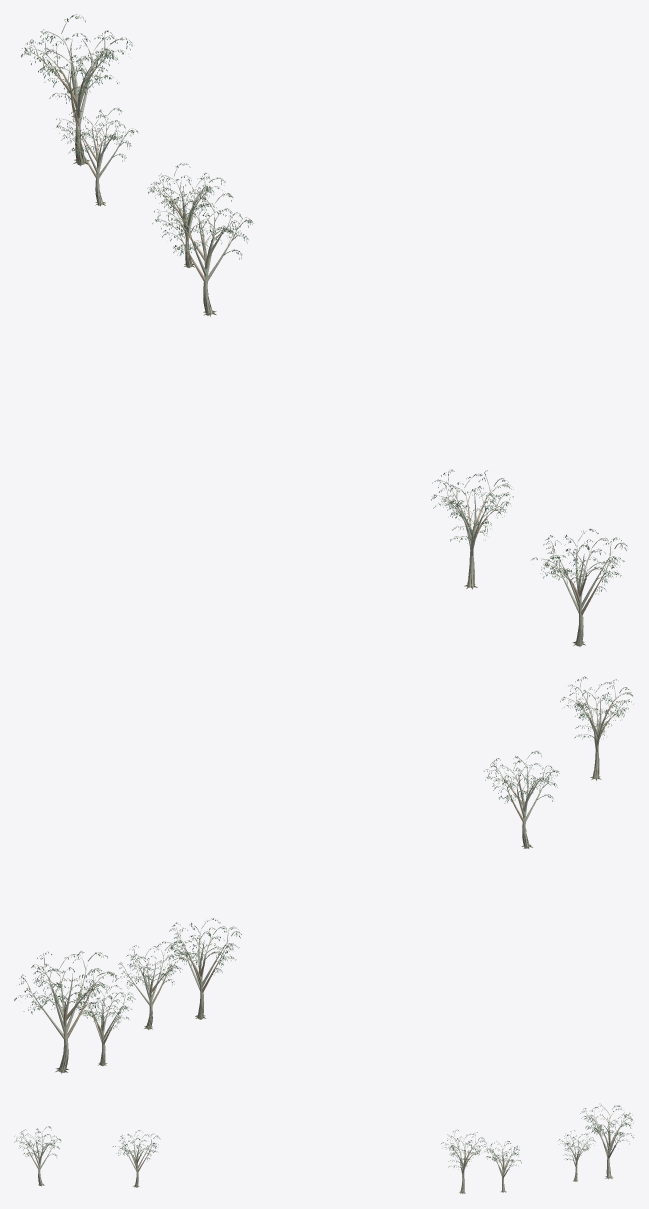
The model's file is ecology-eucalyptus-mid-10.glb.
3 renders of one model, top to bottom at view 1: azimuth 30°, elevation 25°; view 2: azimuth 150°, elevation 25°; view 3: azimuth 270°, elevation 25°, orthographic. The views are drawn at different scales.
Parts seen in each view (by area): view 1: eucalyptus-mid-98, eucalyptus-mid-101, eucalyptus-mid-97, eucalyptus-mid-96, eucalyptus-mid-99, eucalyptus-mid-100; view 2: eucalyptus-mid-98, eucalyptus-mid-101, eucalyptus-mid-96, eucalyptus-mid-97, eucalyptus-mid-100, eucalyptus-mid-99; view 3: eucalyptus-mid-98, eucalyptus-mid-97, eucalyptus-mid-101, eucalyptus-mid-96, eucalyptus-mid-100, eucalyptus-mid-99.
Boxes of the visible parts, x1,y1,x2,y2 form: eucalyptus-mid-98: (21, 14, 132, 166); eucalyptus-mid-101: (152, 193, 253, 316); eucalyptus-mid-97: (531, 528, 627, 646); eucalyptus-mid-96: (431, 469, 513, 589); eucalyptus-mid-99: (56, 107, 138, 206); eucalyptus-mid-100: (147, 163, 225, 267); eucalyptus-mid-98: (14, 951, 116, 1073); eucalyptus-mid-101: (160, 918, 241, 1019); eucalyptus-mid-96: (484, 750, 559, 848); eucalyptus-mid-97: (560, 676, 633, 780); eucalyptus-mid-100: (116, 944, 186, 1029); eucalyptus-mid-99: (73, 985, 135, 1066); eucalyptus-mid-98: (580, 1104, 633, 1179); eucalyptus-mid-97: (14, 1126, 61, 1186); eucalyptus-mid-101: (441, 1129, 486, 1193); eucalyptus-mid-96: (113, 1130, 160, 1187); eucalyptus-mid-100: (483, 1141, 521, 1192); eucalyptus-mid-99: (558, 1130, 595, 1181).
Bounding box in the file's own units: 19.31 × 21.86 × 128.
